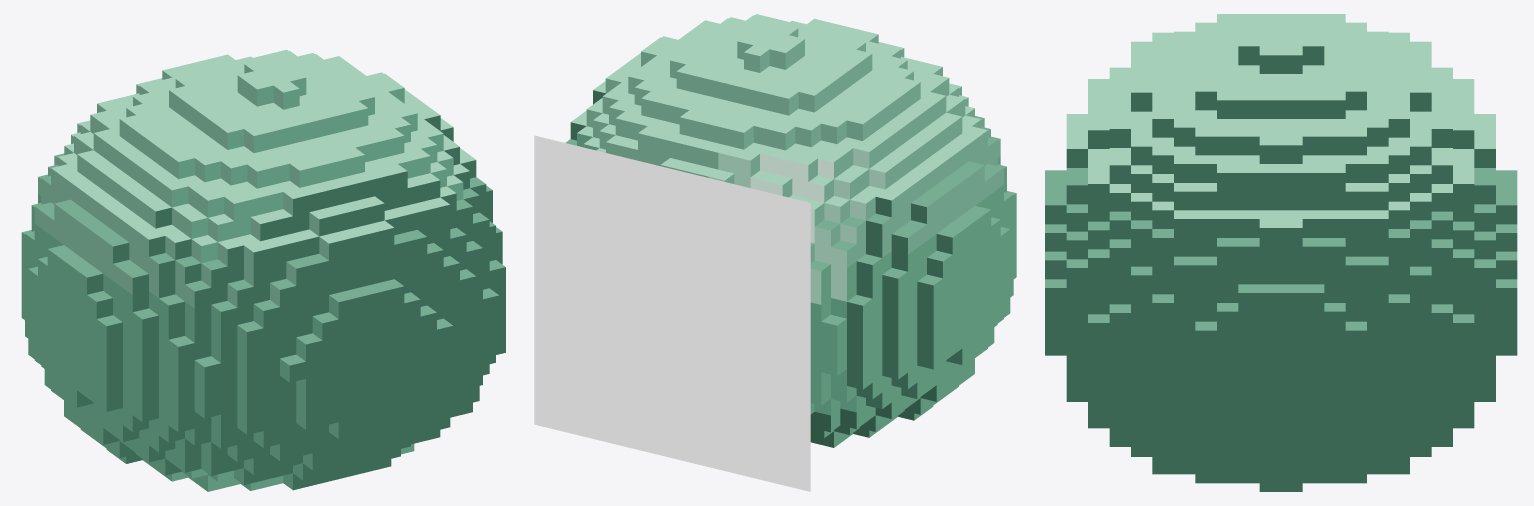
Rendered from slime_blob.glb.
The picture shows the model from 3 angles, left to right: view 1: azimuth 30°, elevation 25°; view 2: azimuth 150°, elevation 25°; view 3: azimuth 270°, elevation 25°; orthographic projection. The views are drawn at different scales.
Visible parts, largest first — view 1: Shell; view 2: Shell, Face; view 3: Shell.
Boxes of the visible parts, box(x1,y1,x2,y2) form: Shell: box(21, 49, 505, 491); Shell: box(565, 14, 1016, 447); Face: box(534, 135, 810, 491); Shell: box(1045, 14, 1517, 491).
Size of the model in its own units: 1.2 by 1 by 1.15.
